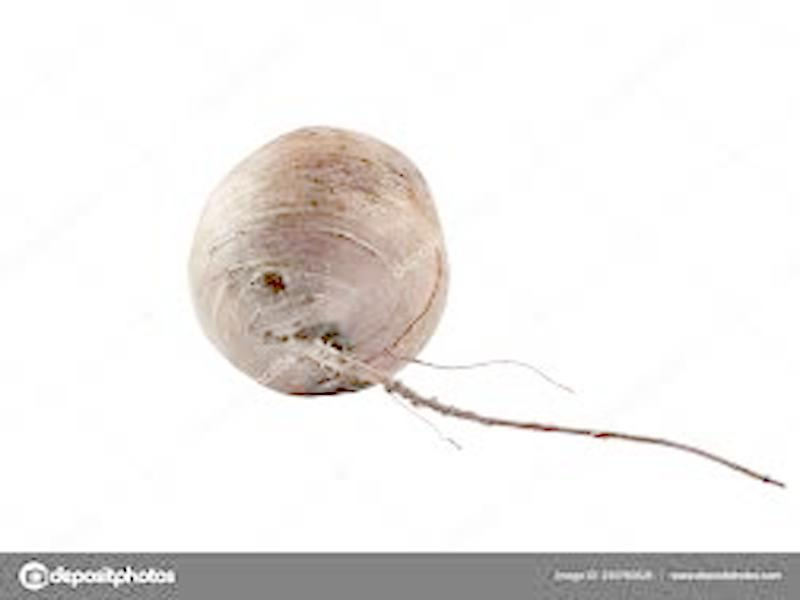Beet: (190, 129, 787, 489)
